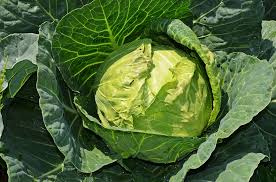cabbage: (93, 38, 222, 166)
